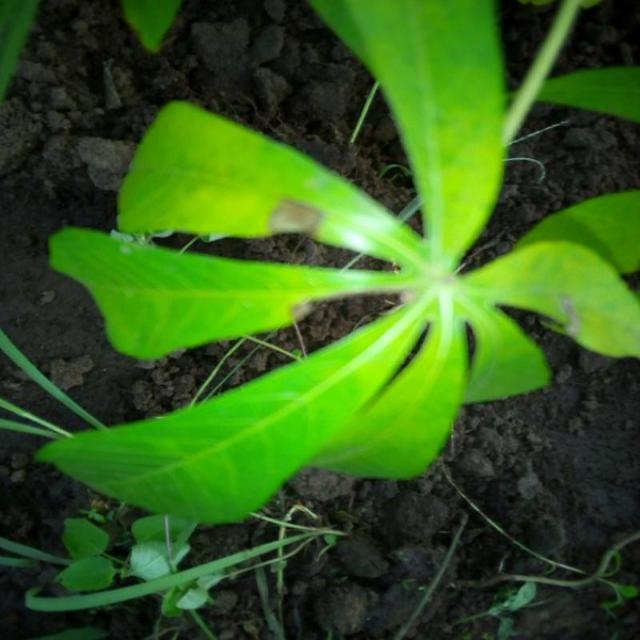cassava leaf: (14, 0, 638, 526)
